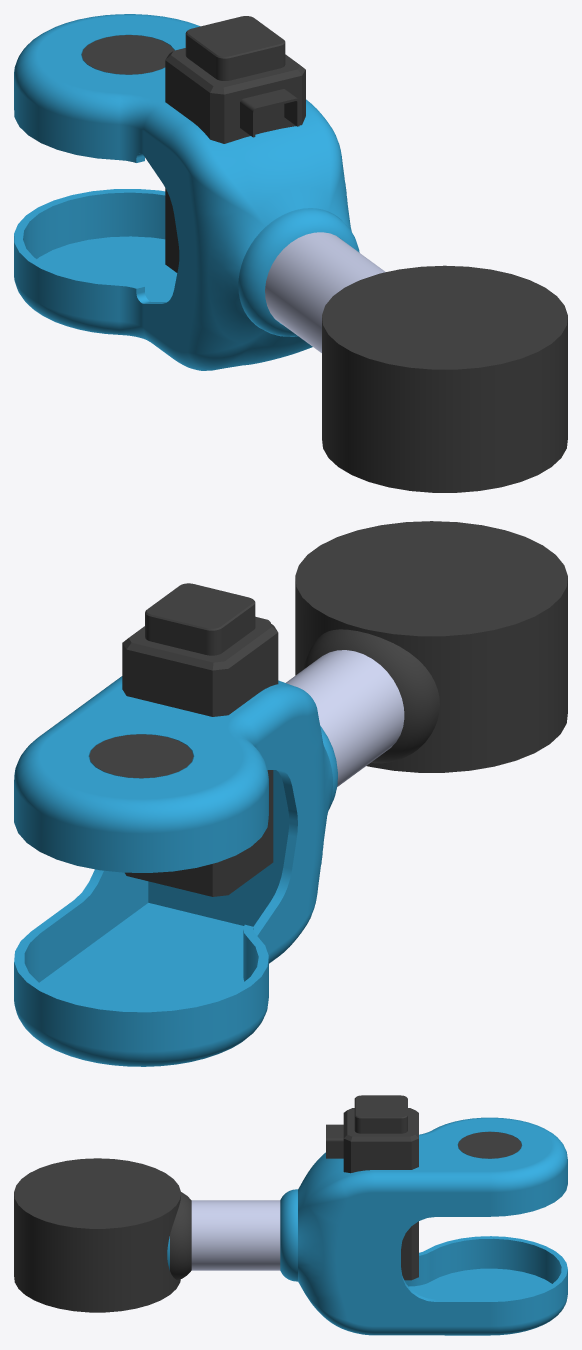
File: arm_link.dae
3 views of the same model, one above another, from view 1: azimuth 30°, elevation 25°; view 2: azimuth 150°, elevation 25°; view 3: azimuth 270°, elevation 25° (orthographic). The views are drawn at different scales.
Parts seen in each view (by area): view 1: _3DGeom-143, _3DGeom-144, _3DGeom-145; view 2: _3DGeom-143, _3DGeom-144, _3DGeom-145; view 3: _3DGeom-143, _3DGeom-144, _3DGeom-145.
Part boxes in pixels (x1,y1,x2,y2): _3DGeom-143: [14, 14, 359, 370]; _3DGeom-144: [81, 16, 567, 492]; _3DGeom-145: [265, 232, 385, 352]; _3DGeom-143: [14, 676, 337, 1066]; _3DGeom-144: [89, 521, 567, 896]; _3DGeom-145: [286, 650, 404, 786]; _3DGeom-143: [167, 1117, 567, 1335]; _3DGeom-144: [14, 1095, 521, 1312]; _3DGeom-145: [191, 1200, 280, 1270].
Bounding box in the file's own units: 0.1029 × 0.312 × 0.1307.
